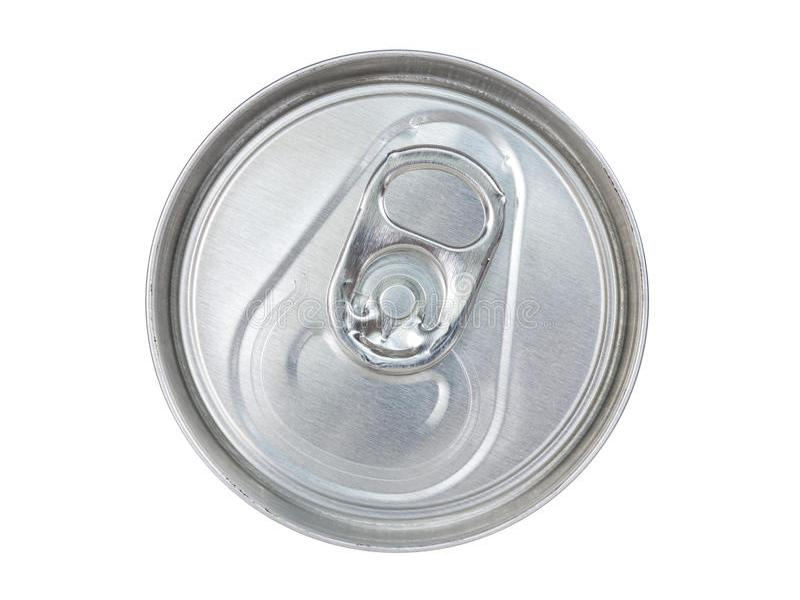can: (143, 50, 651, 554)
